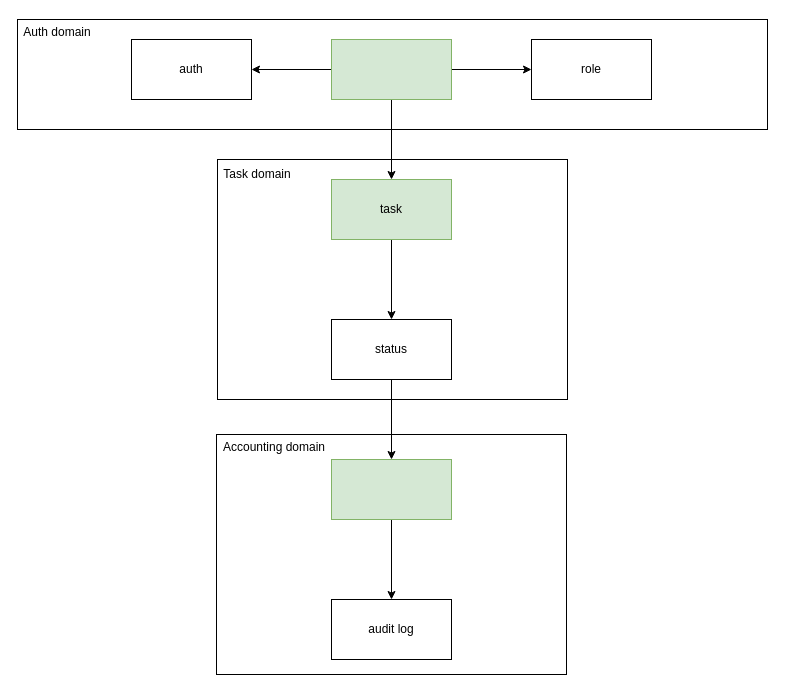
This 785x692 diagram has some shape labels left out. Each missing label, with the box of its shape:
account: (330, 458, 452, 520)
user: (330, 38, 452, 100)
